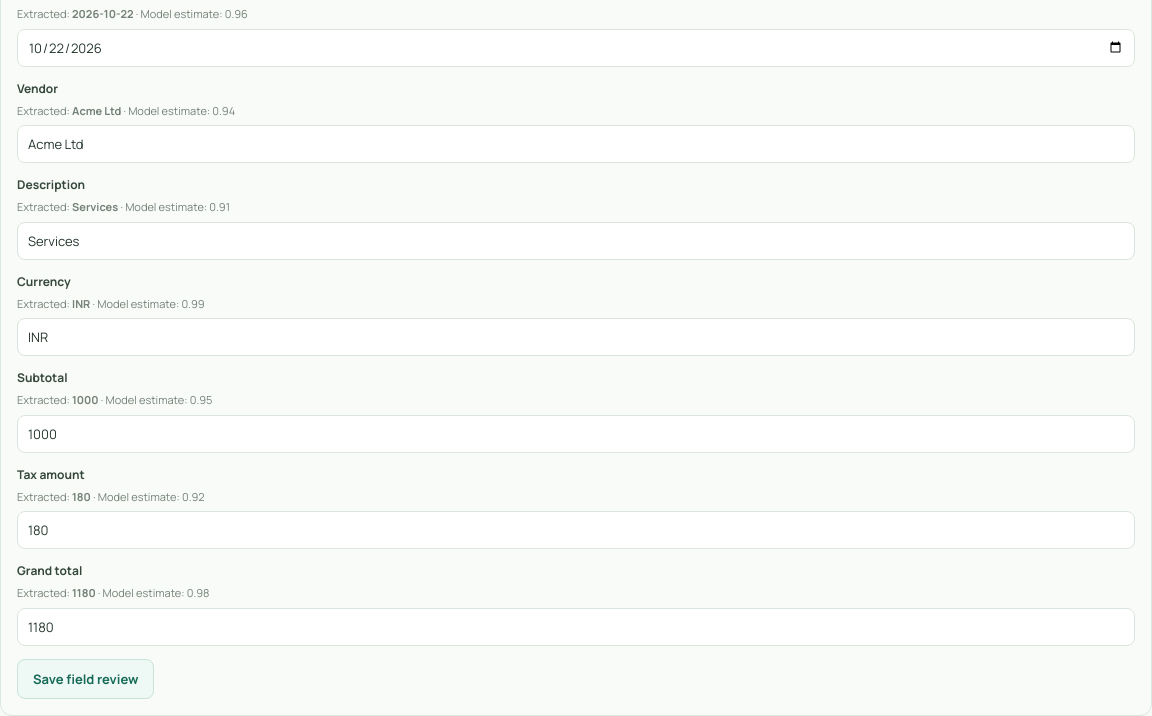
Test: InvoiceExtractionFeedbackForm › shows a generic save error without leaking server details
The width and height of the screenshot is (1152, 716).
(page scrolled)
Click the button "Save field review".
click(86, 679)  # box left=17, top=659, right=154, bottom=699
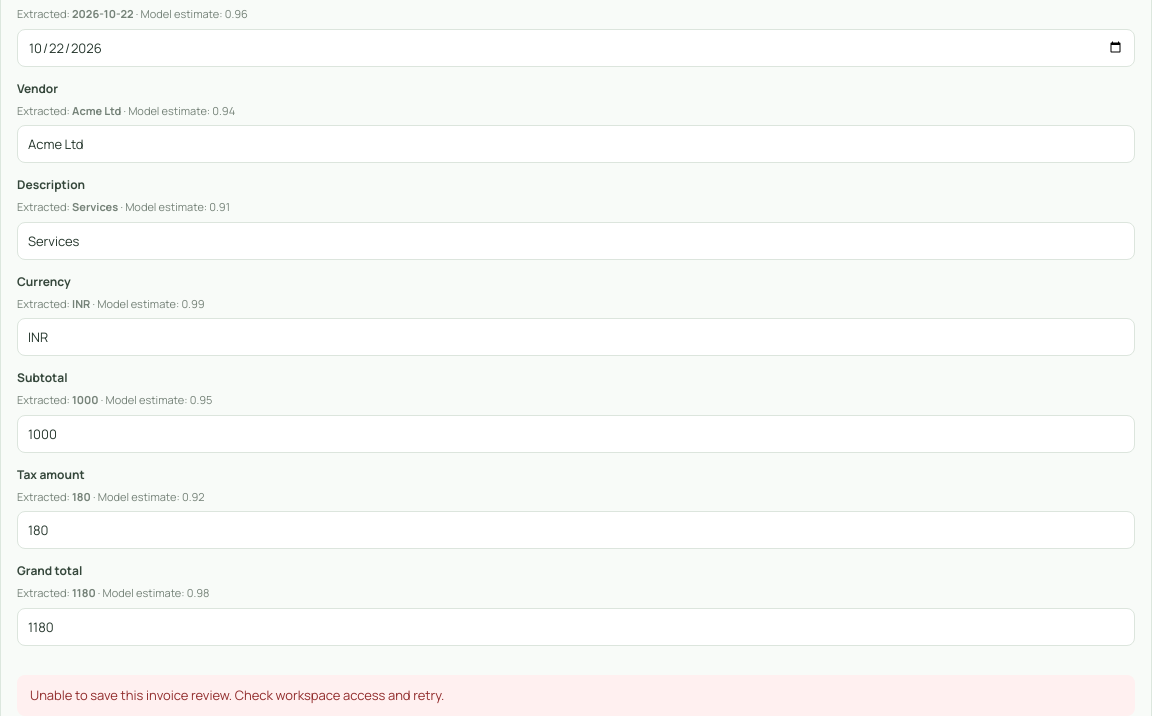
Expected: the message does not show "internal details", left=17, top=675, right=1135, bottom=715
Result: the message shows "Unable to save this invoice review" at left=30, top=686, right=444, bottom=704
